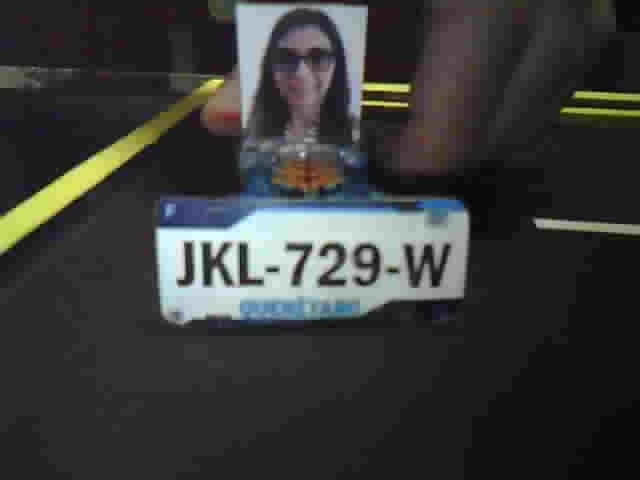PLACA: (149, 192, 470, 329)
ROSTRO: (243, 3, 360, 167)
